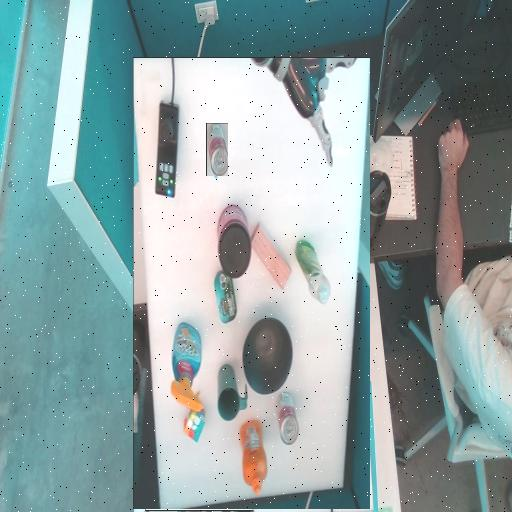bowl: (213, 175, 261, 249)
cleanser: (174, 278, 209, 312)
coffee_can: (253, 310, 286, 342)
jaco: (145, 404, 253, 509)
meat_can: (267, 260, 289, 281)
mug: (257, 161, 286, 189)
mustard_bottle: (238, 73, 263, 146)
rubik: (299, 132, 320, 153)
soup_can: (207, 123, 227, 175)
windex: (302, 186, 333, 216)
wooden_block: (213, 279, 253, 345)
workspace: (134, 58, 370, 509)
